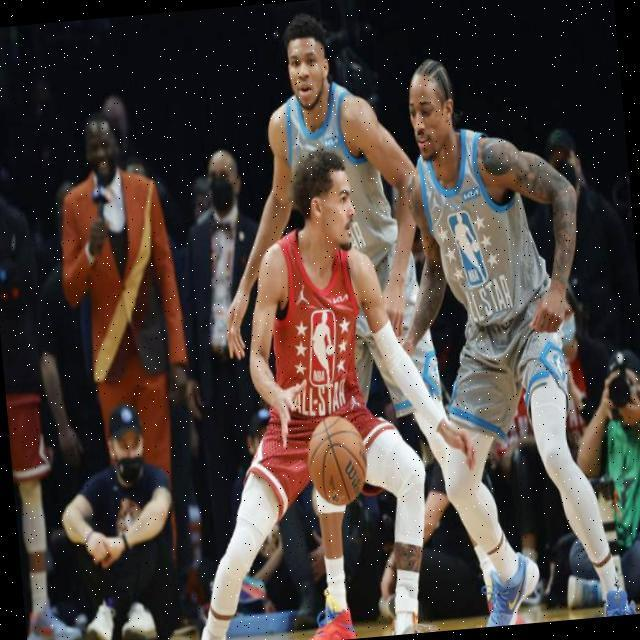ball: (304, 412, 372, 510)
